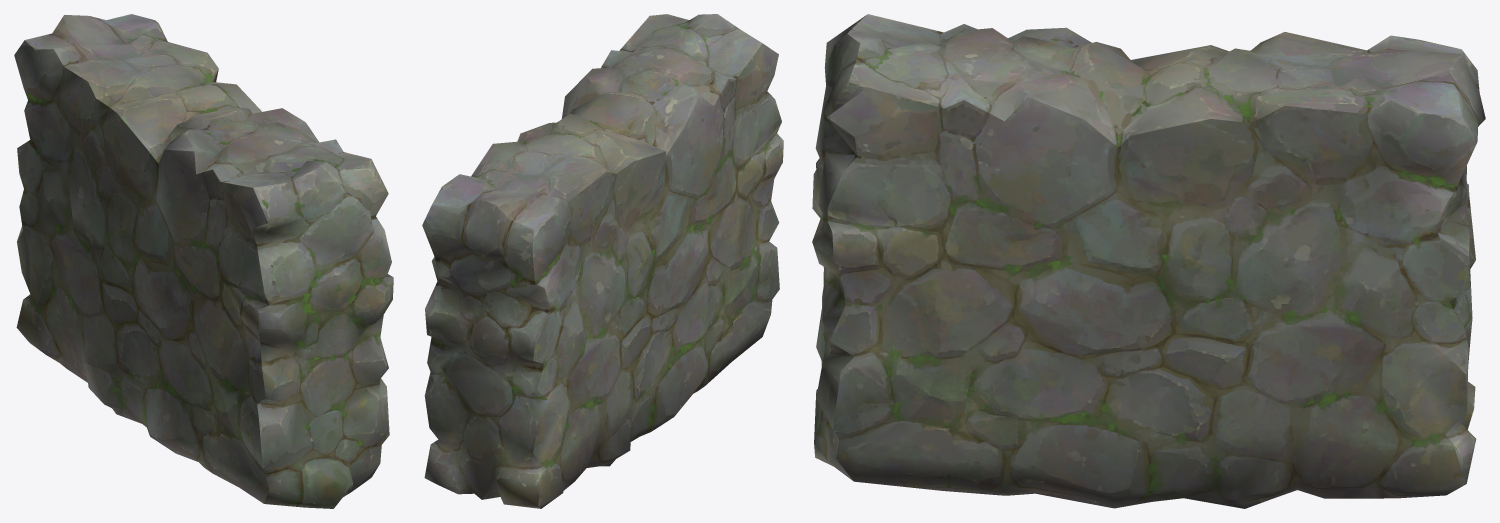
File: Area_Common_Build_RockWall_A_01.fbx
3 views of the same model, side by side, from view 1: azimuth 30°, elevation 25°; view 2: azimuth 150°, elevation 25°; view 3: azimuth 270°, elevation 25° (orthographic). The views are drawn at different scales.
Visible parts, largest first — view 1: Area_Common_Build_RockWall_A_01_Lod0; view 2: Area_Common_Build_RockWall_A_01_Lod0; view 3: Area_Common_Build_RockWall_A_01_Lod0.
Part boxes in pixels (x1,y1,x2,y2): Area_Common_Build_RockWall_A_01_Lod0: (14, 14, 393, 508); Area_Common_Build_RockWall_A_01_Lod0: (422, 14, 783, 508); Area_Common_Build_RockWall_A_01_Lod0: (812, 14, 1485, 508).
Size of the model in its own units: 1.38 by 3.41 by 4.65.
